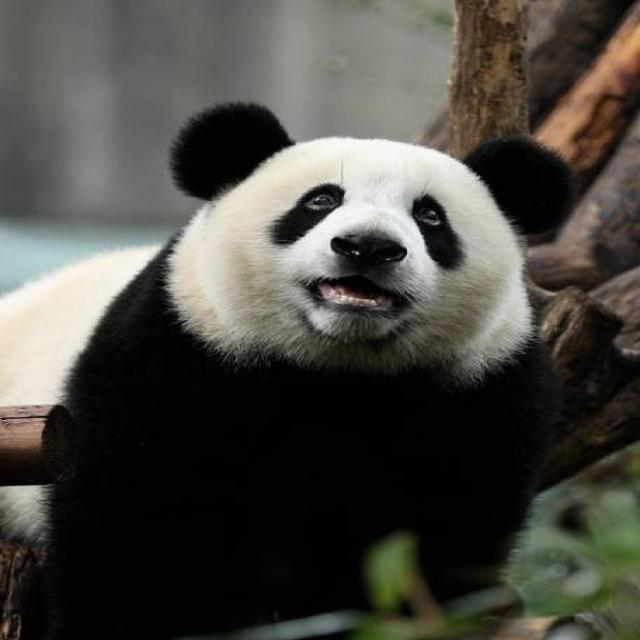panda: (55, 71, 630, 595)
